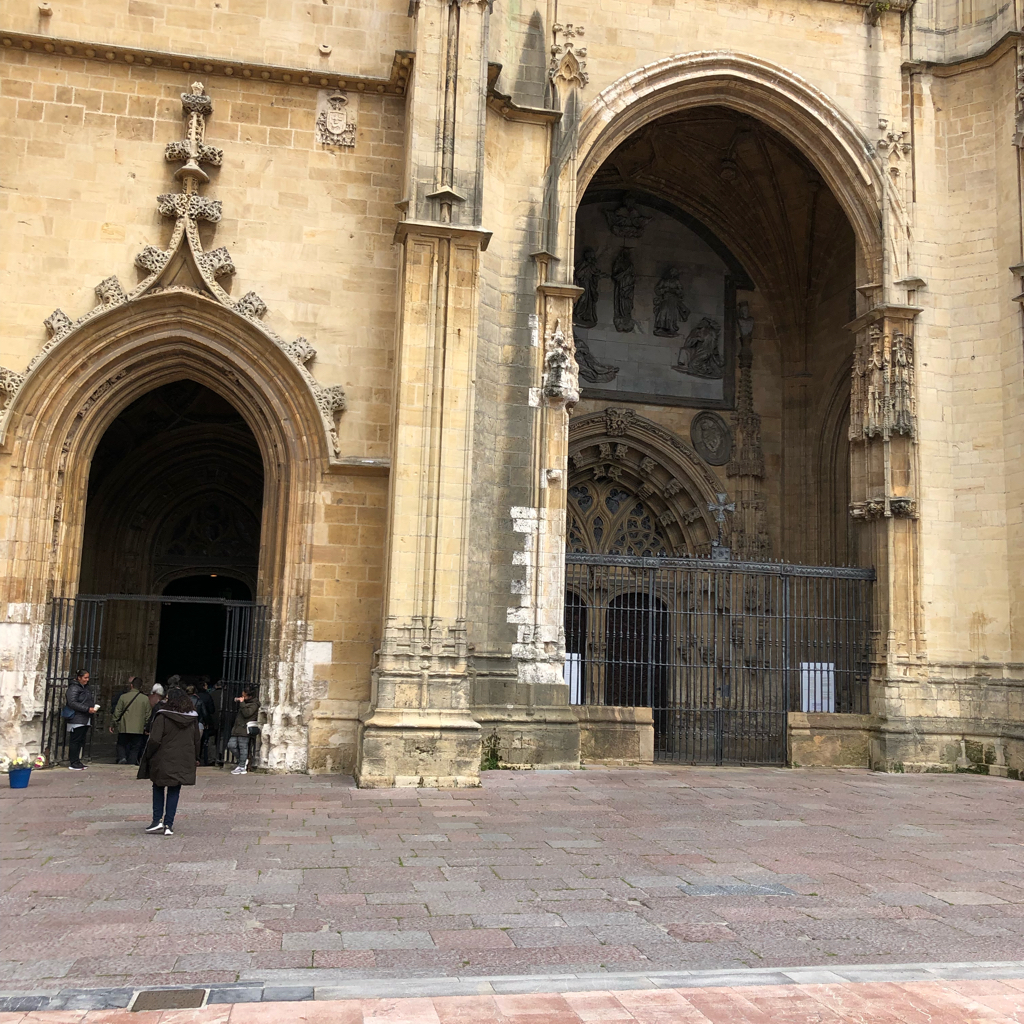arco-apuntado: (553, 49, 887, 294), (57, 330, 311, 519)
arco-conopial: (81, 229, 266, 326)
